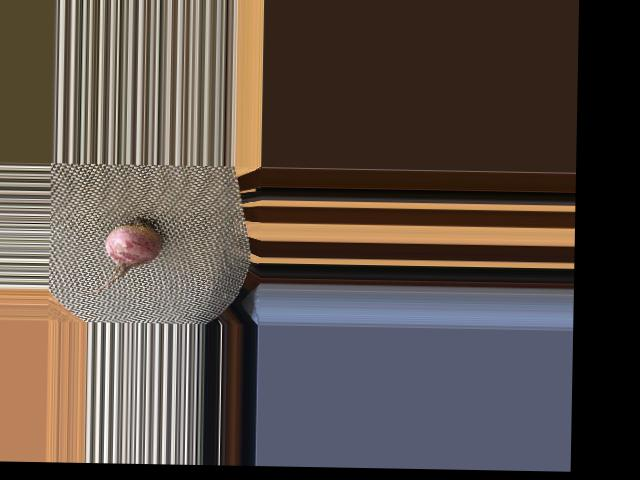beet: (79, 215, 163, 296)
